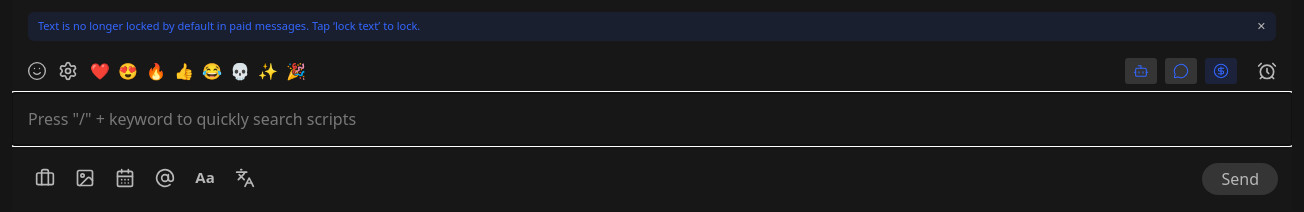
Scenario: Composer toolbar: the three rows › Send is disabled for an empty draft, enabled after typing, and its title is the keyboard hint
Expected: the button "Send" is disabled, [1202,162,1278,194]
In the text box with placeholder "Press \"/\" + keyword to quickly search scripts": (652, 118) [12,92,1292,144], type "hi"
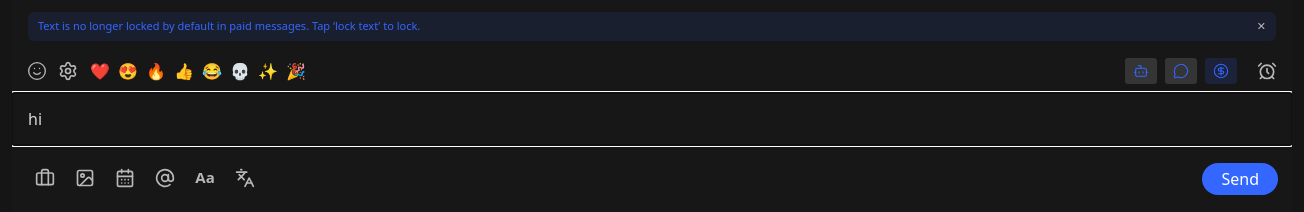
Expected: the button "Send" is enabled, [1202,162,1278,194]
